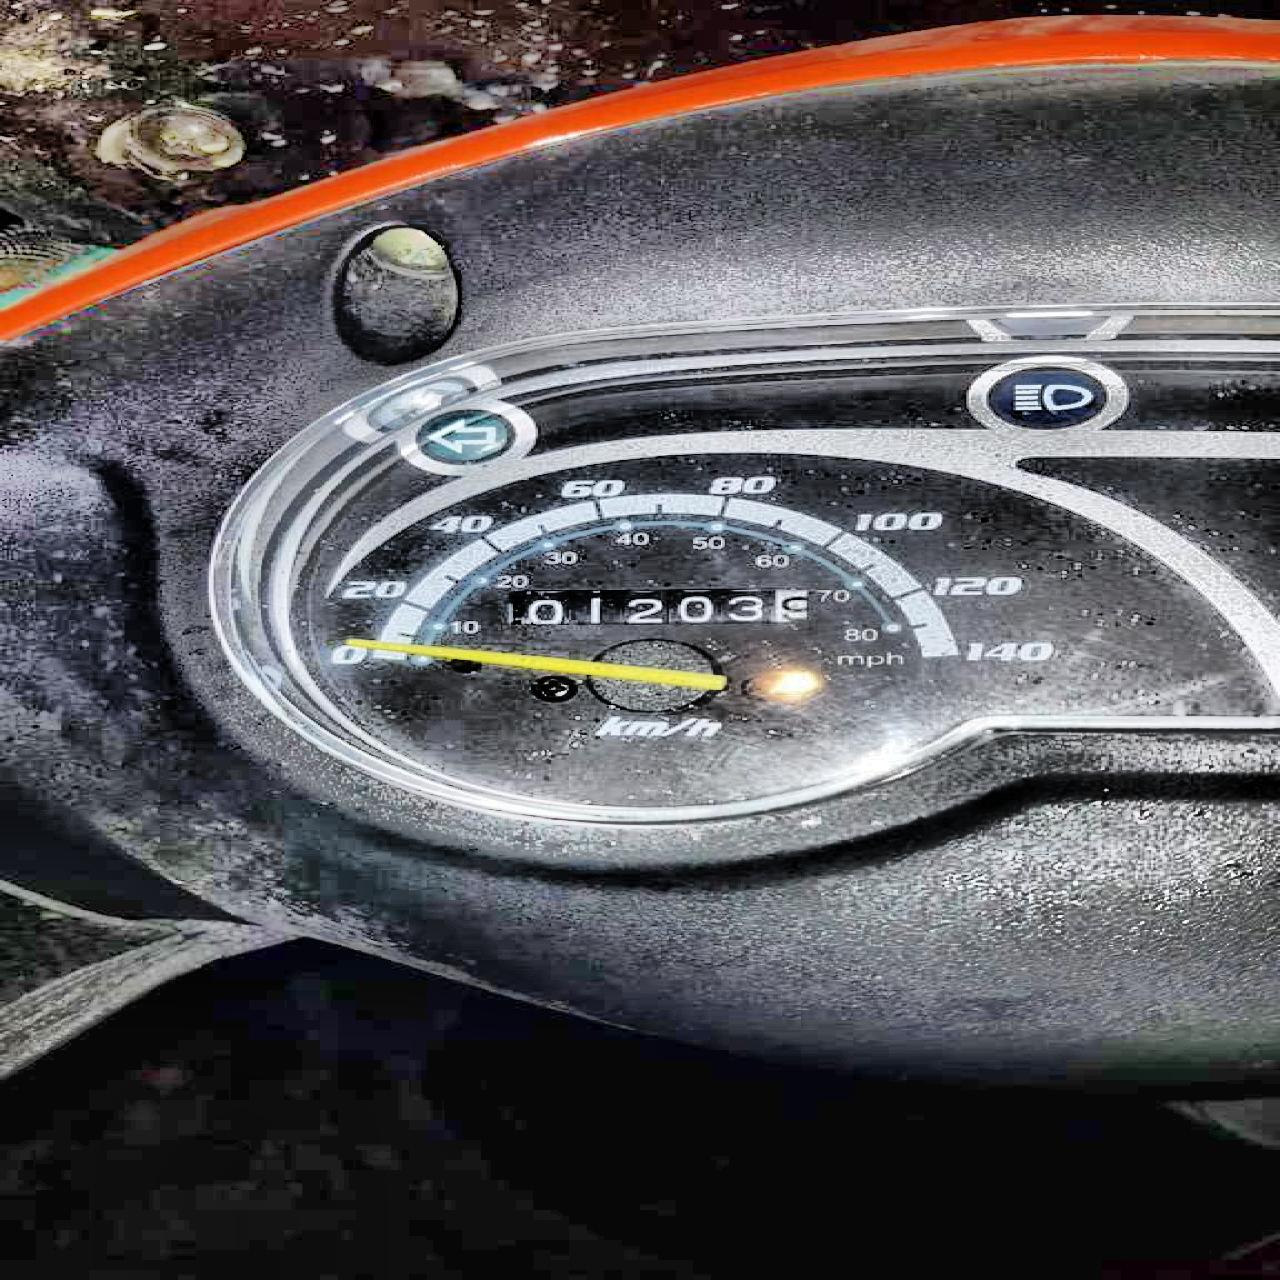0: (674, 592, 714, 624), (522, 597, 561, 624)
1: (583, 594, 607, 624)
2: (620, 595, 665, 624)
3: (722, 593, 764, 622)
9: (775, 592, 809, 622)
odometer: (498, 584, 813, 627)
